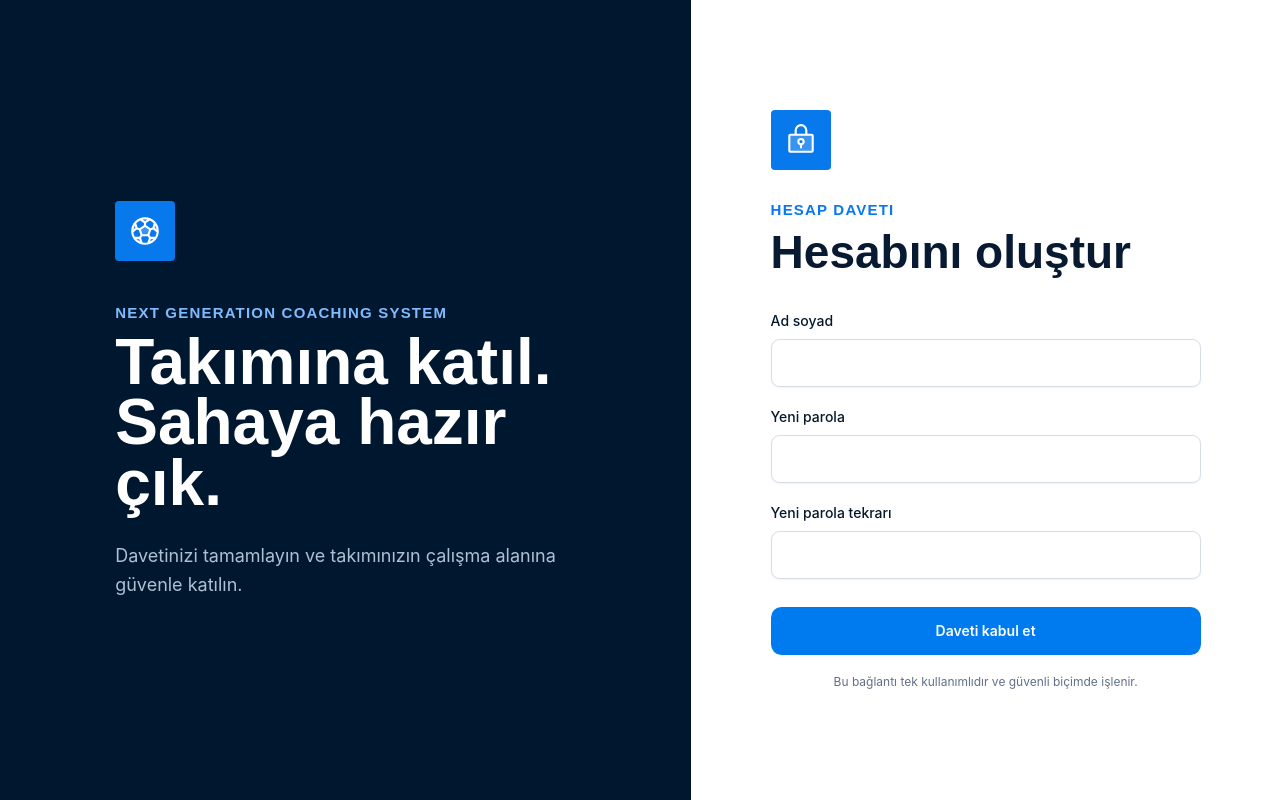
Scenario: invitation migrated form › retains required/new-password/minLength and rejects mismatched confirmation
The image size is (1280, 800).
Expected: the password field labelled "Yeni parola" is shown, [771,434,1201,482]
Type "Test Coach" into the field labelled "Ad soyad" at (986,362), box [771,338,1201,386]
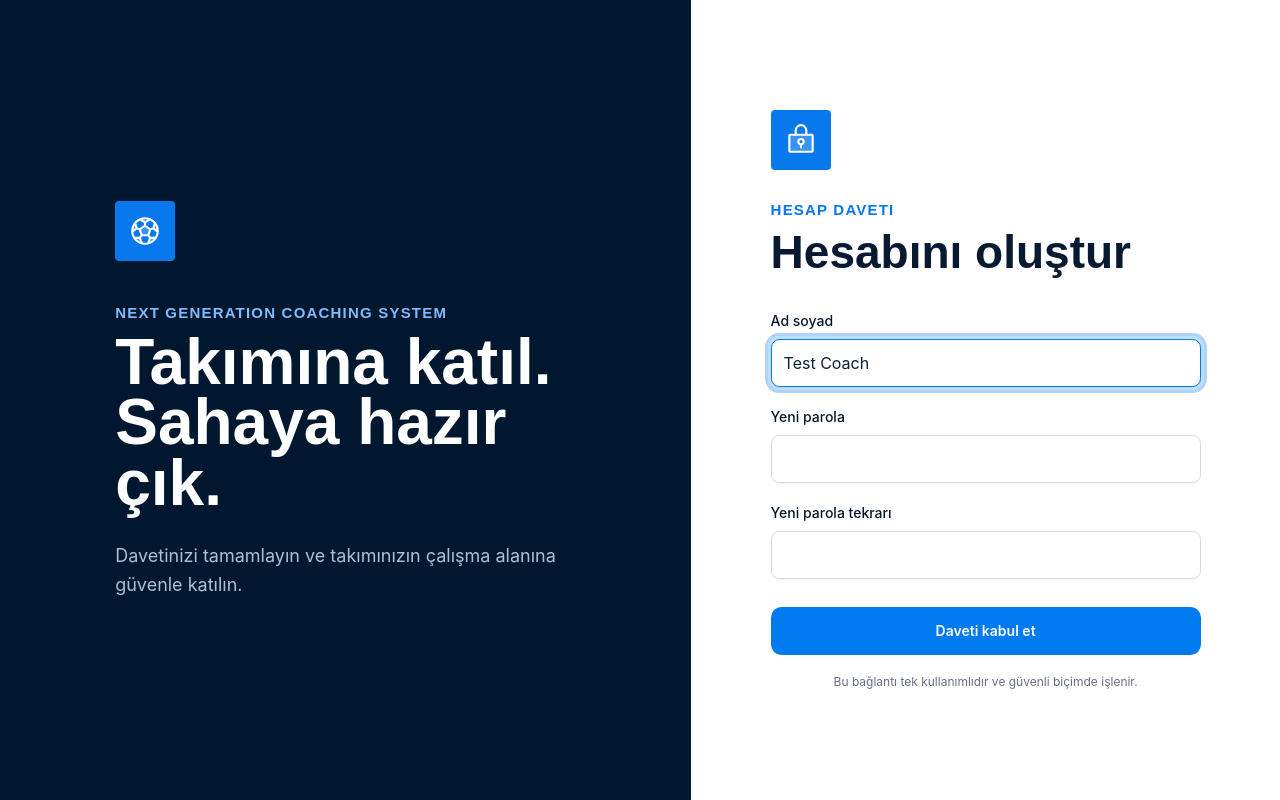
Type "synthetic-pass-123" into the password field labelled "Yeni parola" at (986,458), box [771,434,1201,482]
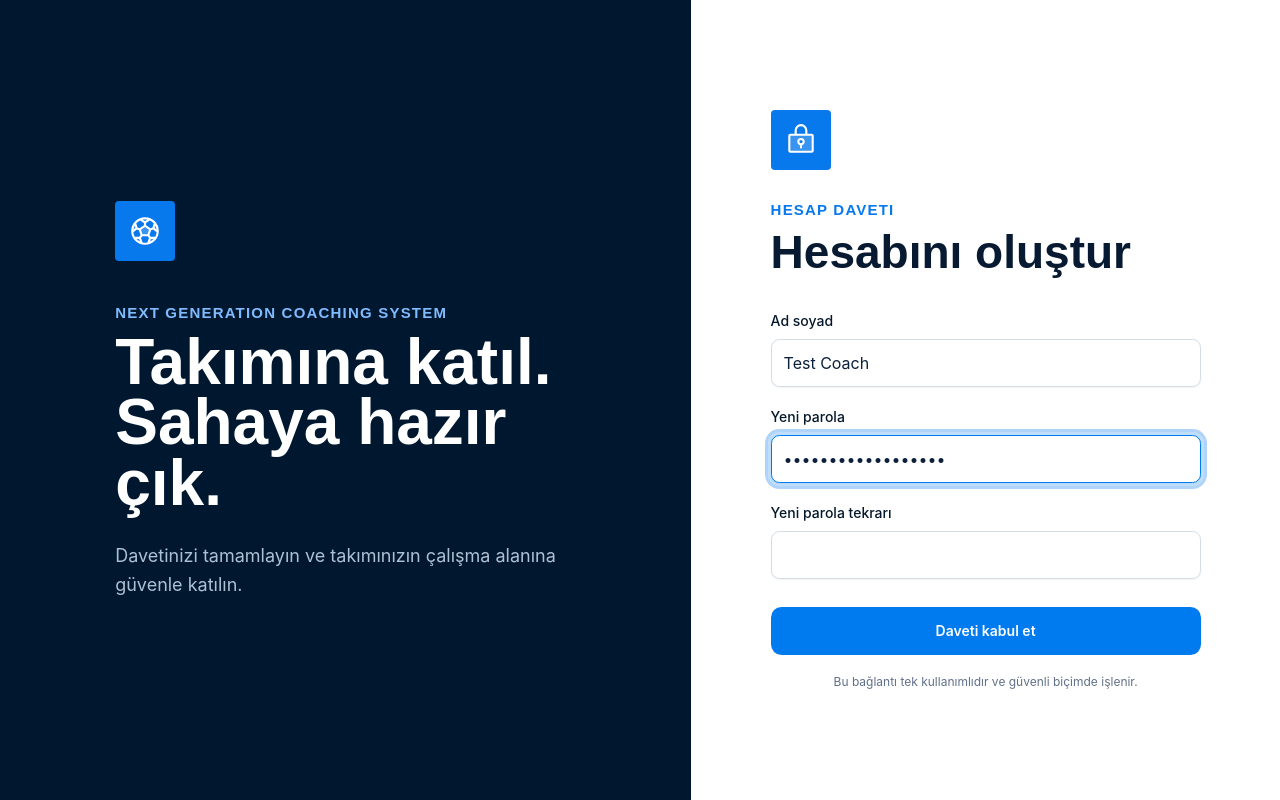
Type "different-pass-123" into the password field labelled "Yeni parola tekrarı" at (986,554), box [771,530,1201,578]
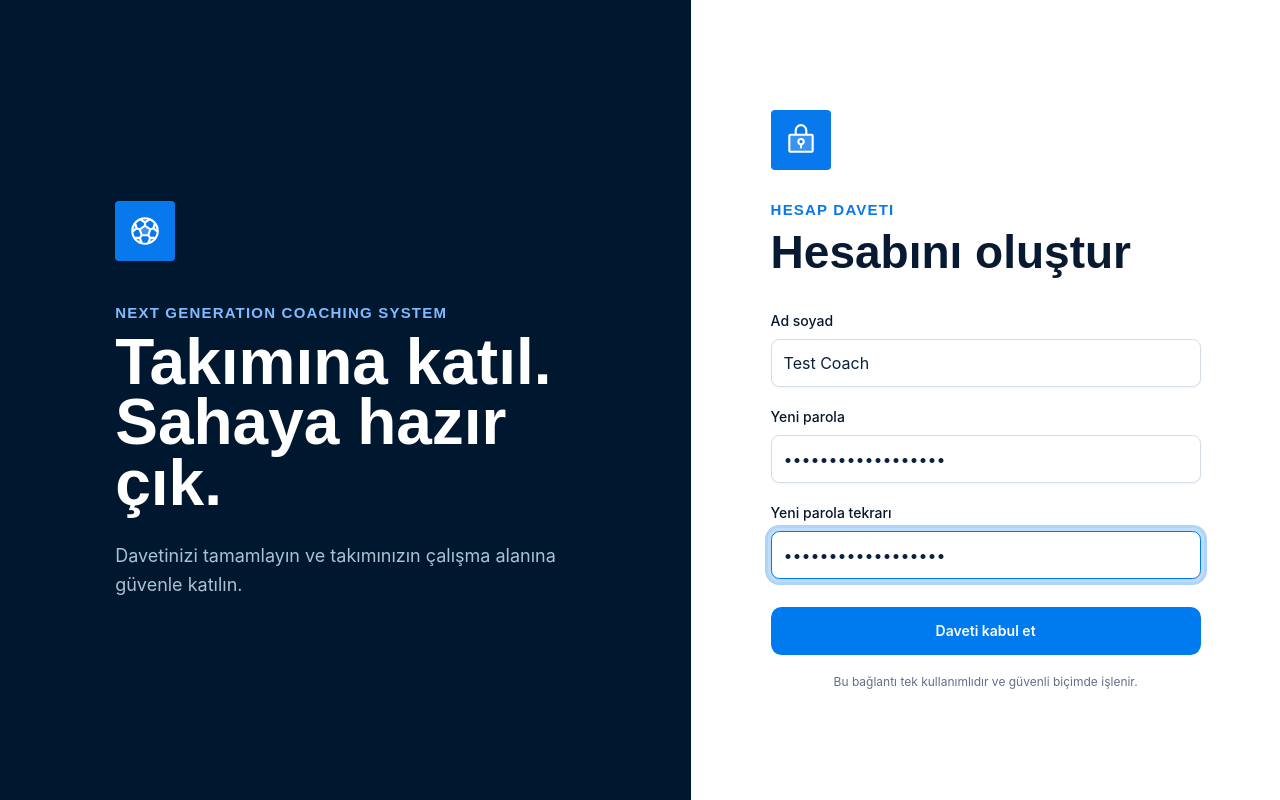
Click the button "Daveti kabul et" at (986,630), box [771,606,1201,654]
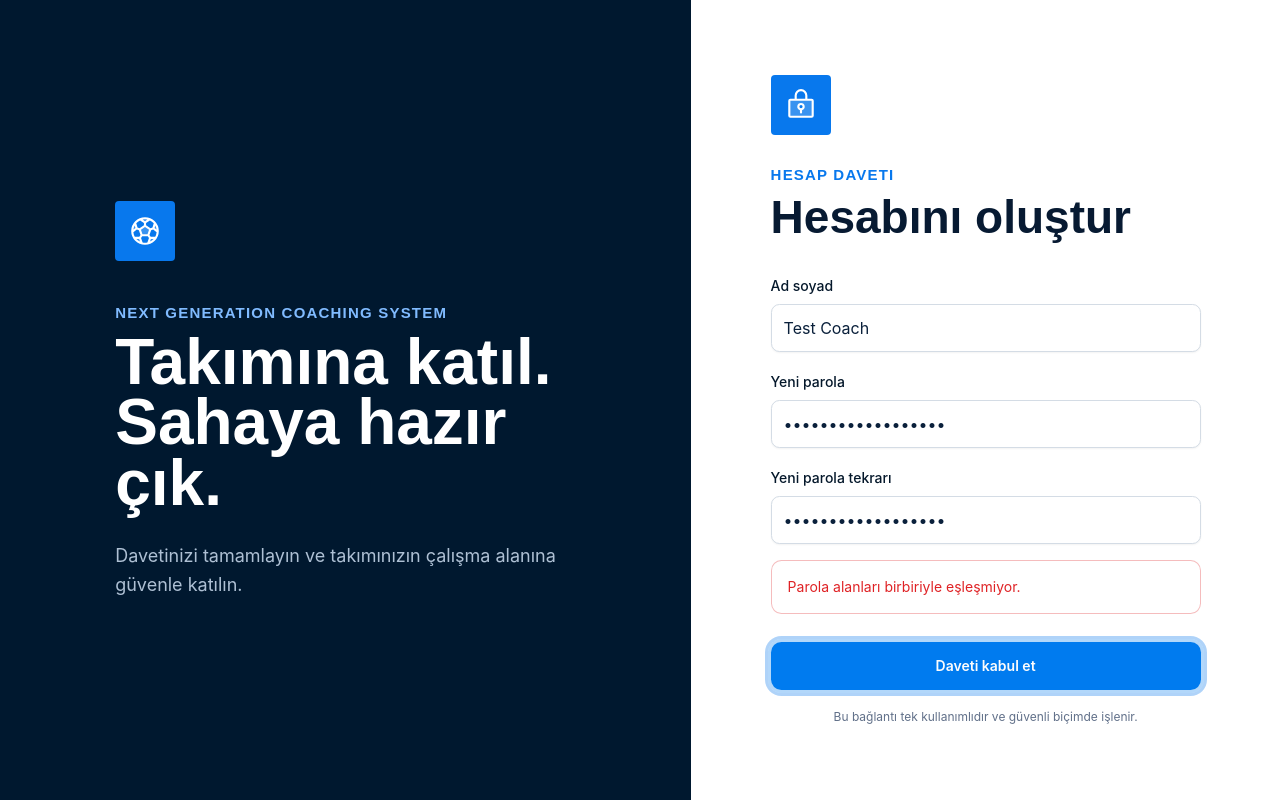
Expected: the message reads "Parola alanları birbiriyle eşleşmiyor.", [788,578,1021,594]
